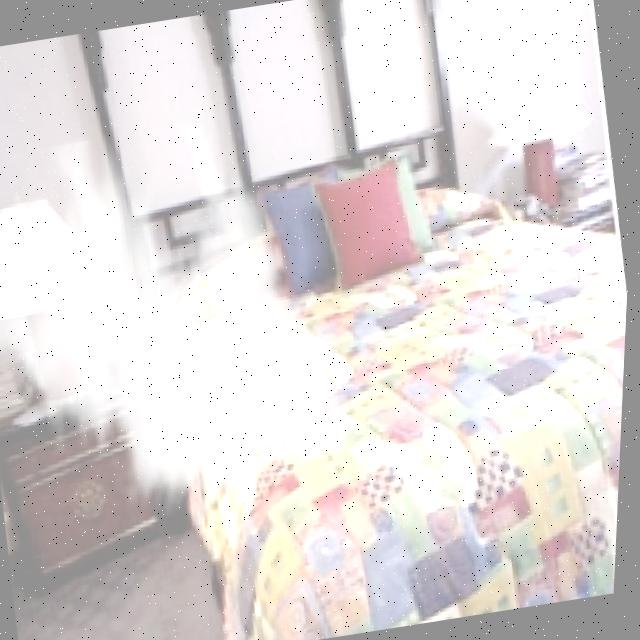Smoke: (0, 99, 384, 542)
